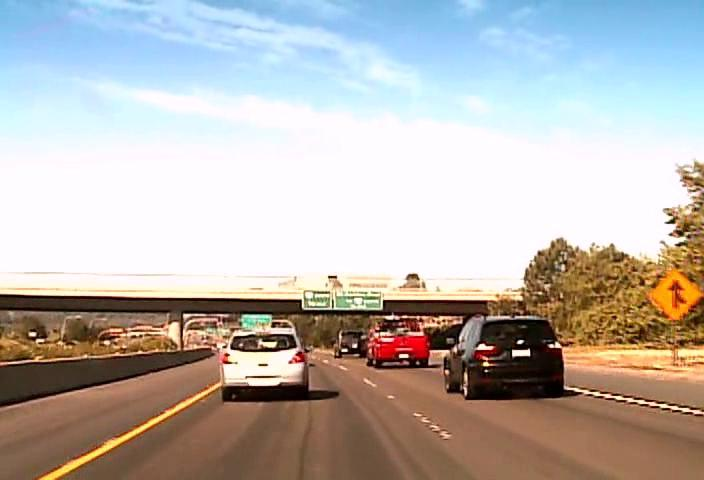merge: (648, 267, 703, 322)
